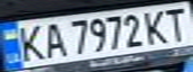2: (121, 11, 148, 48)
7: (103, 12, 127, 51), (66, 17, 90, 55)
9: (87, 15, 109, 53)
A: (36, 20, 69, 58)
K: (12, 21, 48, 63), (139, 7, 172, 45)
T: (160, 4, 193, 43)
